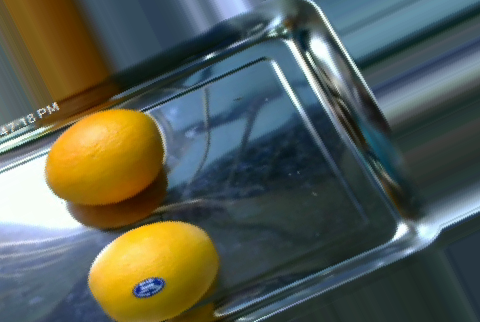Orange: (88, 221, 219, 321), (44, 108, 163, 205)
